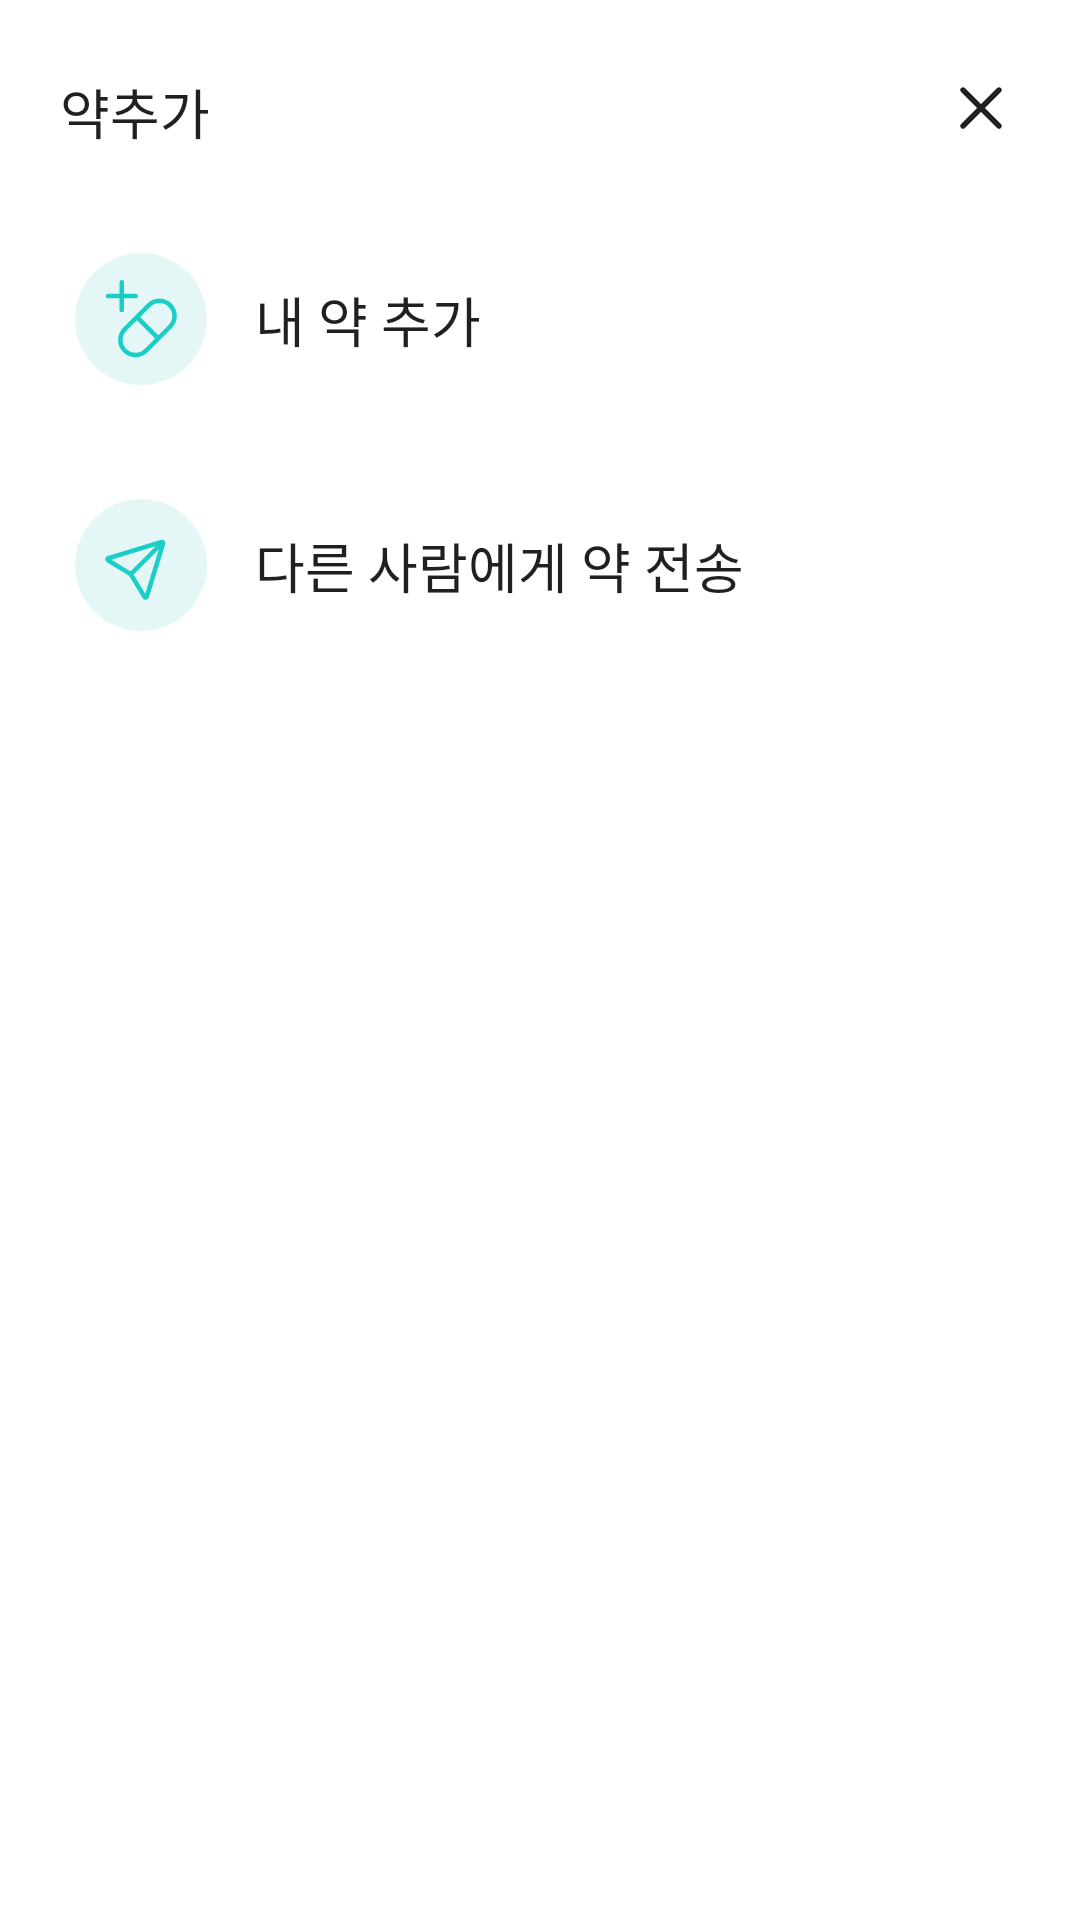

Icon bounding boxes for this 1080*1920 phone screenshot, format rect(x1, y1, x2, y2):
close: rect(960, 87, 1002, 129)
plus: rect(75, 253, 207, 385)
send: rect(75, 499, 207, 631)
